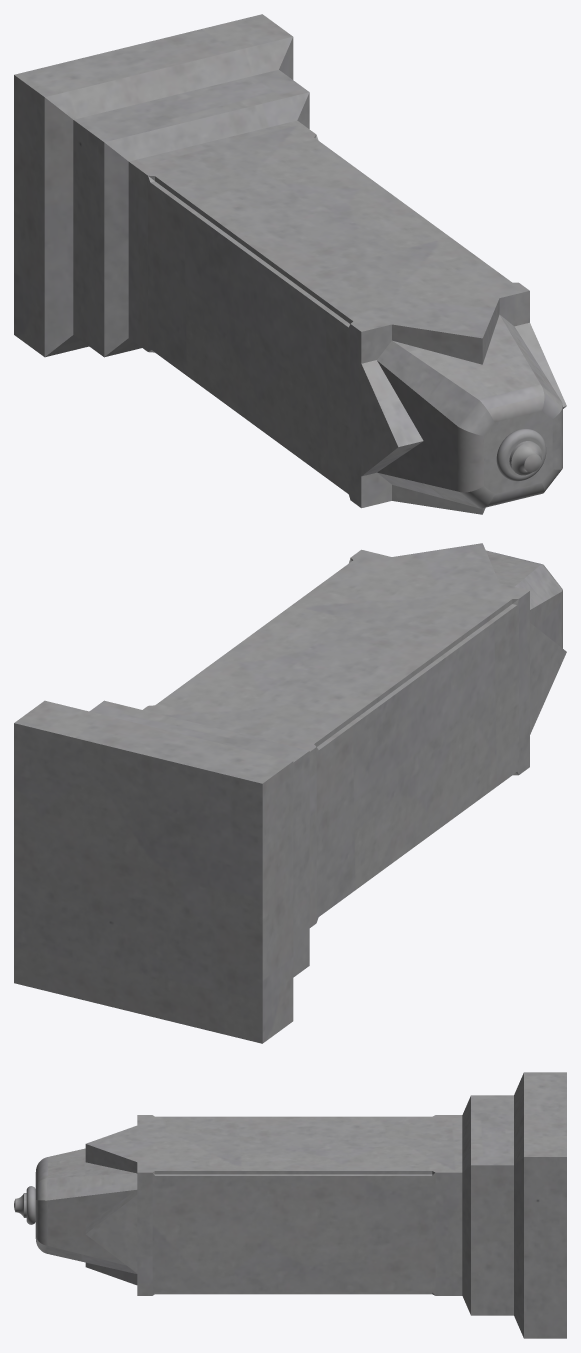
3 views of the same model, one above another, from view 1: azimuth 30°, elevation 25°; view 2: azimuth 150°, elevation 25°; view 3: azimuth 270°, elevation 25° (orthographic). The views are drawn at different scales.
Parts seen in each view (by area): view 1: PA-405-F_LOD0; view 2: PA-405-F_LOD0; view 3: PA-405-F_LOD0.
Part boxes in pixels (x1,y1,x2,y2): PA-405-F_LOD0: (14,14,566,514); PA-405-F_LOD0: (14,543,566,1043); PA-405-F_LOD0: (14,1072,566,1338).
Size of what is drawn, in the model's own units: 35.56 by 35.56 by 98.06.
